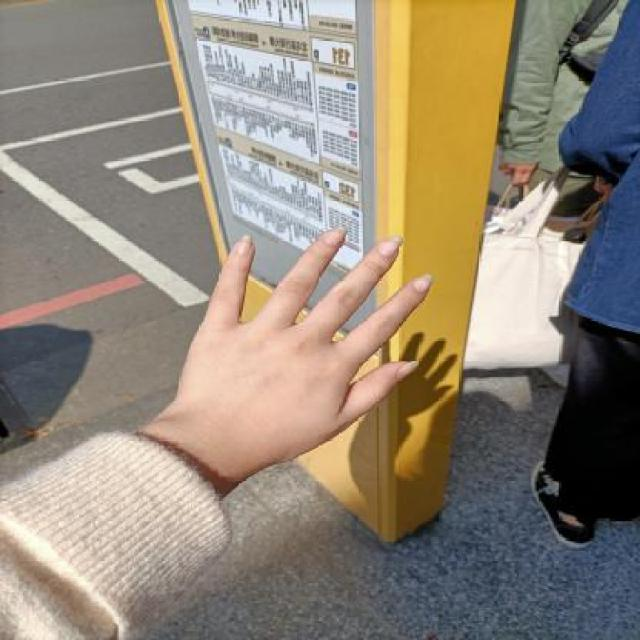bare_hand: (129, 217, 449, 486)
